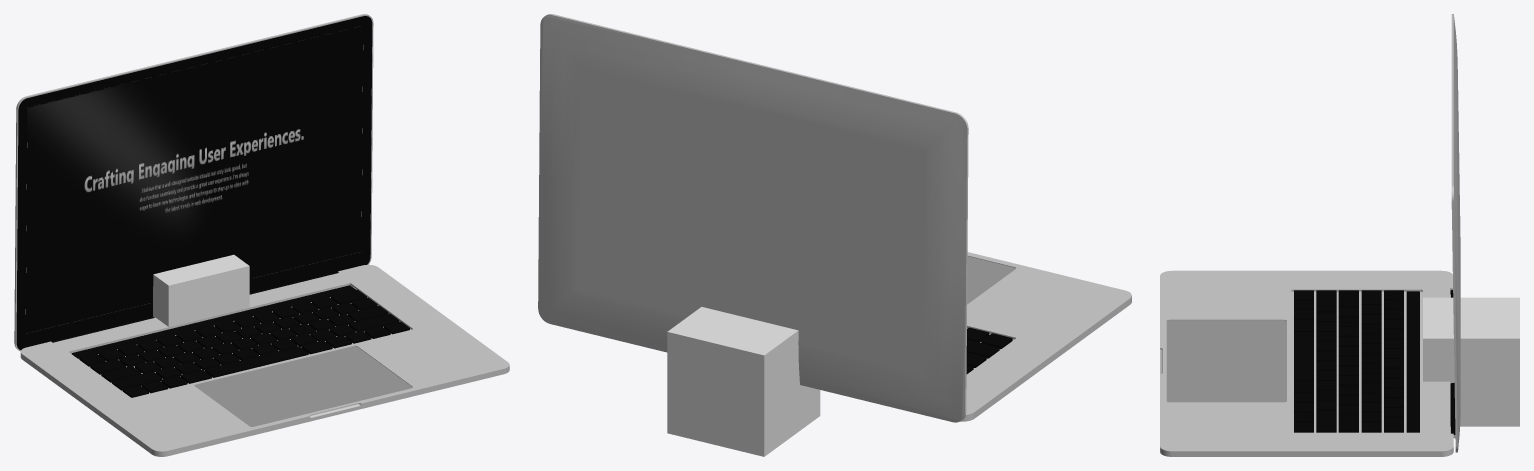
Rendered from mac-draco.glb.
The picture shows the model from 3 angles, left to right: view 1: azimuth 30°, elevation 25°; view 2: azimuth 150°, elevation 25°; view 3: azimuth 270°, elevation 25°; orthographic projection. The views are drawn at different scales.
Parts seen in each view (by area): view 1: screen, base, keyboard, Cube, touchbar; view 2: screen, Cube, base, keyboard; view 3: base, keyboard, Cube, screen, touchbar.
Boxes of the visible parts, x1,y1,x2,y2 form: screen: [14, 14, 373, 351]; base: [20, 264, 509, 456]; keyboard: [79, 289, 409, 397]; Cube: [153, 254, 249, 326]; touchbar: [71, 285, 355, 358]; screen: [538, 14, 968, 422]; Cube: [667, 307, 820, 456]; base: [960, 252, 1131, 421]; keyboard: [966, 327, 1012, 374]; base: [1160, 270, 1453, 456]; keyboard: [1294, 290, 1403, 432]; Cube: [1423, 297, 1519, 426]; screen: [1450, 14, 1460, 452]; touchbar: [1406, 291, 1419, 432].
Size of the model in its own units: 8.81 by 6.95 by 7.42.
7 materials, 1 textured.
